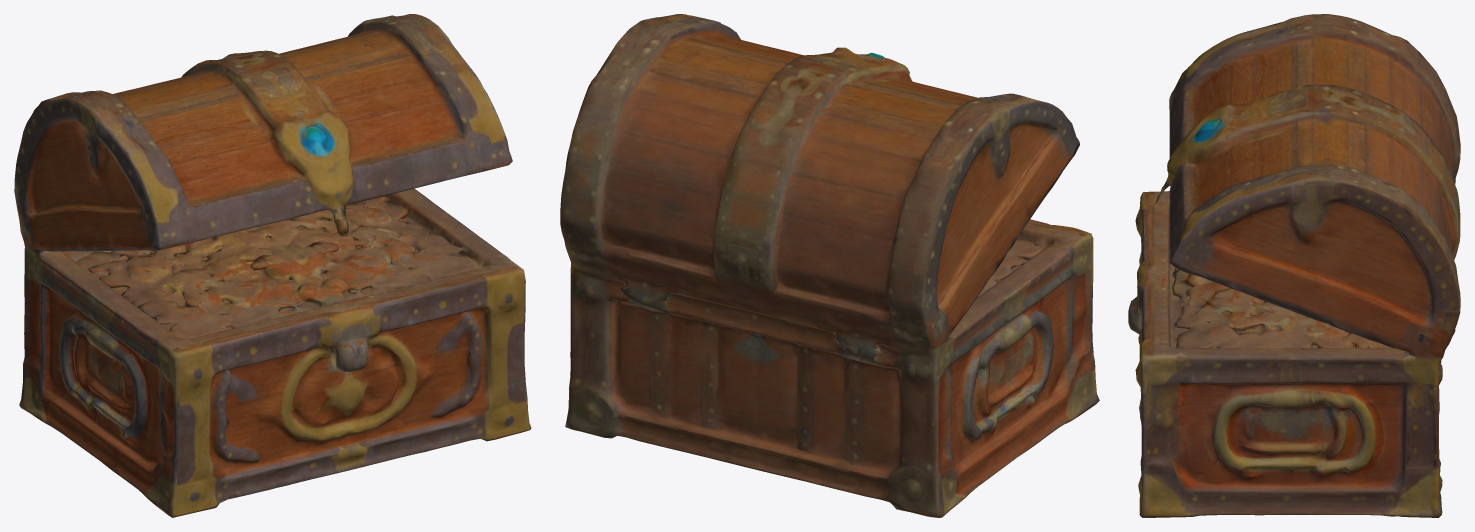
File: 0193dfa0-8c21-7511-8285-c68fb4db5140.glb
3 views of the same model, side by side, from view 1: azimuth 30°, elevation 25°; view 2: azimuth 150°, elevation 25°; view 3: azimuth 270°, elevation 25° (orthographic). The views are drawn at different scales.
Visible parts, largest first — view 1: file1; view 2: file1; view 3: file1.
Boxes of the visible parts, x1=… form: file1: x1=14, y1=14, x2=531, y2=517; file1: x1=560, y1=14, x2=1099, y2=517; file1: x1=1128, y1=14, x2=1460, y2=517.
Bounding box in the file's own units: 1.99 × 1.81 × 1.62.
1 material, 1 textured.
